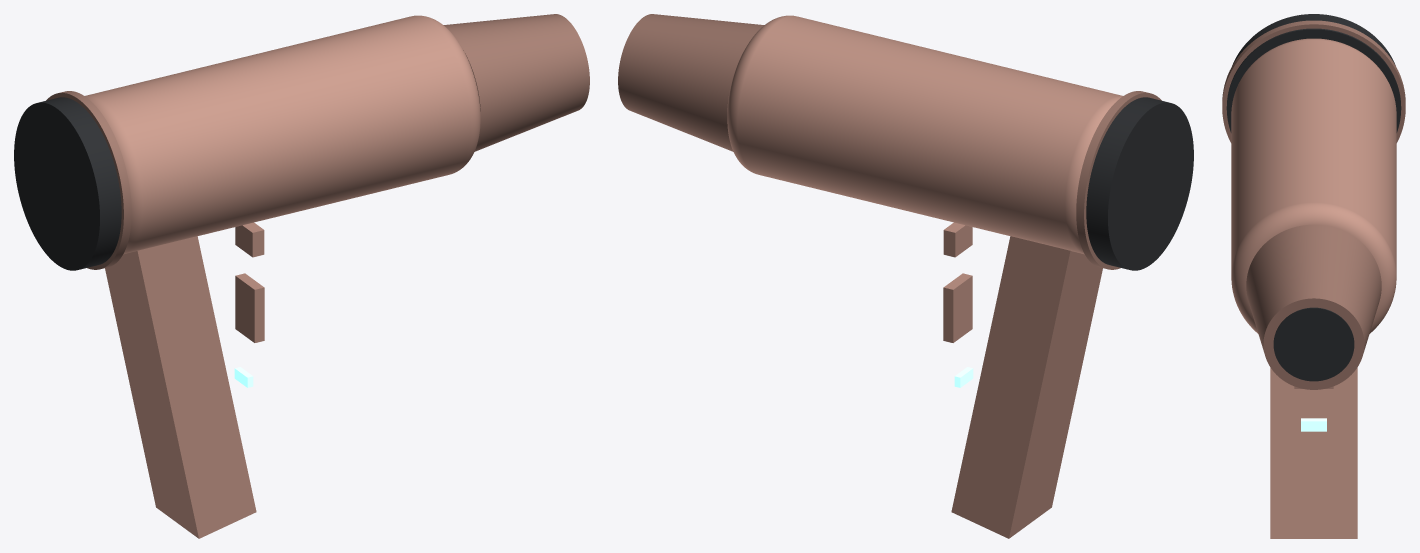
3 renders of one model, left to right at view 1: azimuth 30°, elevation 25°; view 2: azimuth 150°, elevation 25°; view 3: azimuth 270°, elevation 25°, orthographic.
Parts seen in each view (by area): view 1: body.1, body.2, coat.2, accent.1, accent.2, button.1, button.2; view 2: body.1, body.2, coat.2, accent.1, accent.2, button.1, button.2; view 3: body.1, body.2, accent.1, coat.1, coat.2, accent.2, led.1.
Part boxes in pixels (box(x1,y1,x2,y2)): body.1: box(85, 15, 480, 254); body.2: box(105, 236, 256, 538); coat.2: box(14, 97, 121, 270); accent.1: box(443, 14, 589, 151); accent.2: box(46, 91, 131, 269); button.1: box(235, 273, 264, 342); button.2: box(235, 222, 264, 257); body.1: box(727, 15, 1122, 254); body.2: box(951, 236, 1102, 538); coat.2: box(1086, 97, 1193, 270); accent.1: box(618, 14, 764, 151); accent.2: box(1076, 91, 1161, 269); button.1: box(943, 273, 972, 342); button.2: box(943, 222, 972, 257); body.1: box(1231, 38, 1396, 333); body.2: box(1270, 367, 1357, 538); accent.1: box(1246, 224, 1381, 389); coat.1: box(1273, 307, 1354, 381); coat.2: box(1226, 14, 1401, 132); accent.2: box(1222, 20, 1405, 142); led.1: box(1301, 418, 1326, 431).
Bounding box in the file's own units: 0.2596 × 0.2183 × 0.08.
